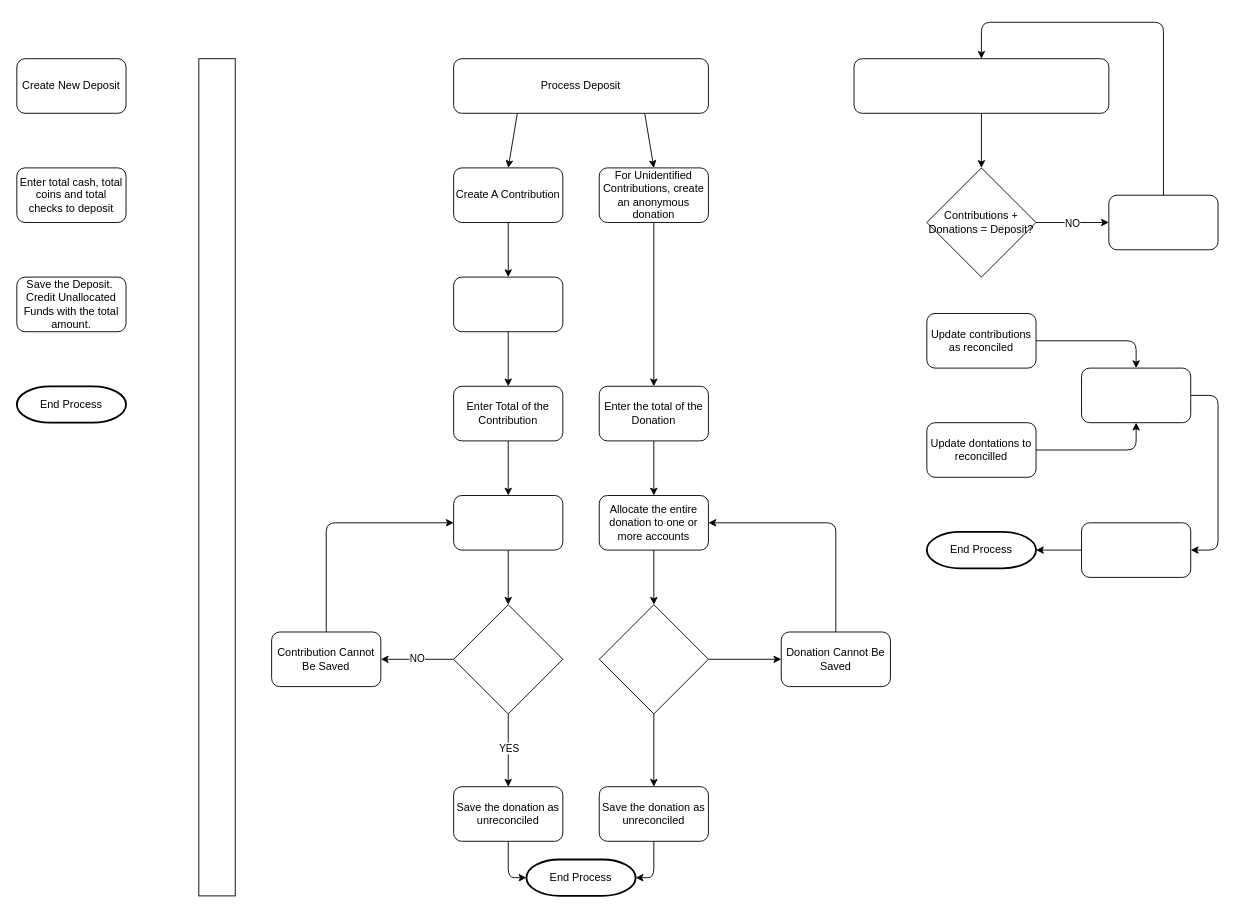
This 1241x913 diagram has some shape labels left out. Here are the shapes that lost their labels. From the top down, the centre of each, then its label:
the point at 981,85: Approve Deposit
the point at 1163,222: Deposit Cannot Be Approved
the point at 508,304: Associate contribution with a profile
the point at 1136,395: Create transactions to move money in ledgers
the point at 216,477: Deposit Money in the Bank
the point at 508,522: Allocate the entire contribution to one or more accounts
the point at 1136,549: Update Deposit to Approved
the point at 508,659: Sum of accounts = total contribution?
the point at 653,659: Sum of accounts = total donation?
